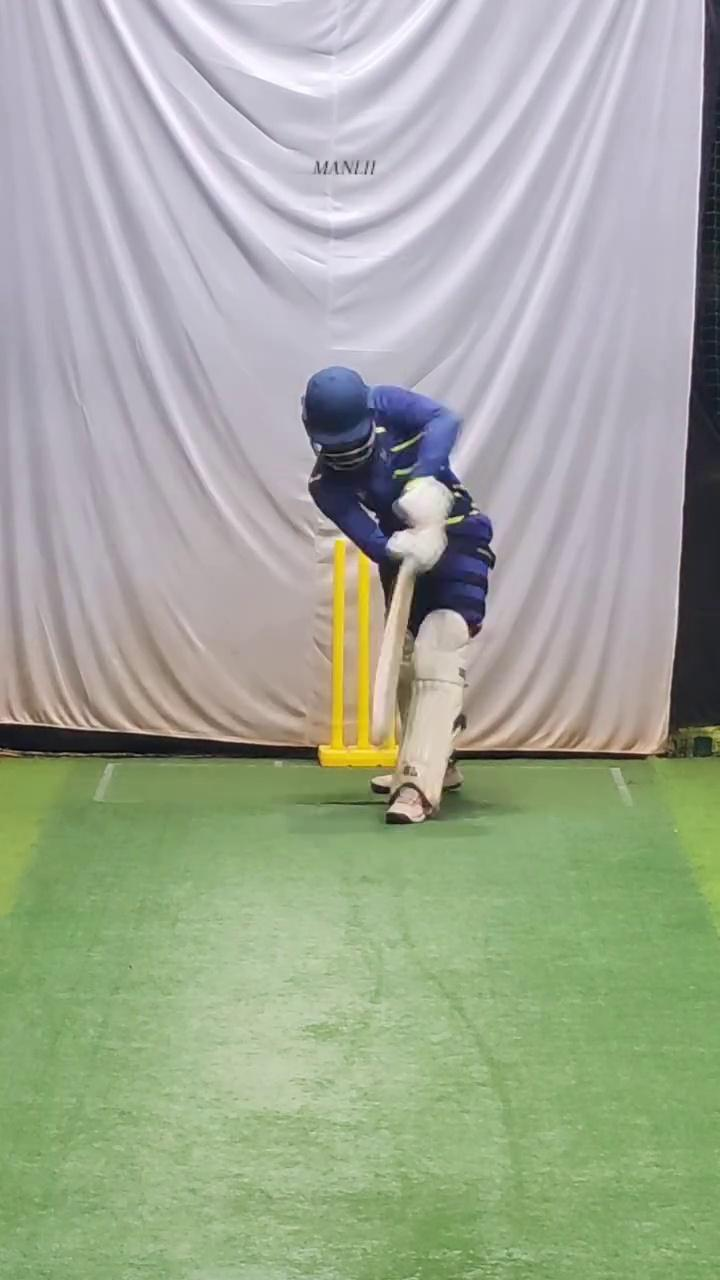bat: (352, 566, 433, 754)
